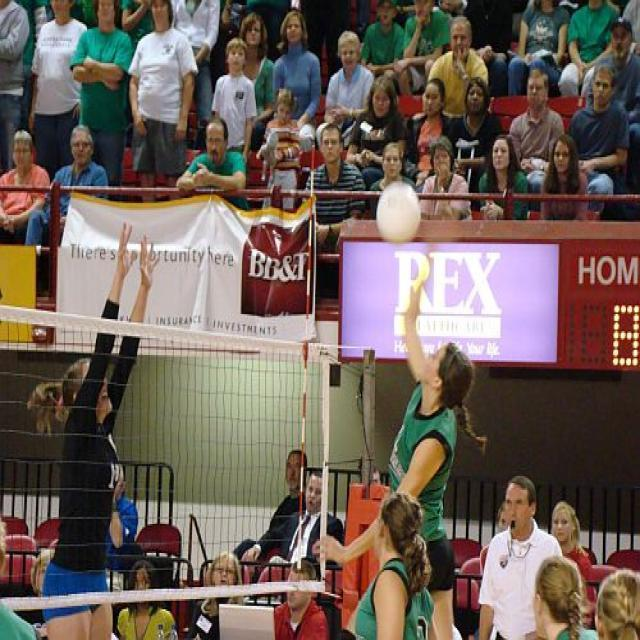volleyball: (376, 184, 421, 244)
